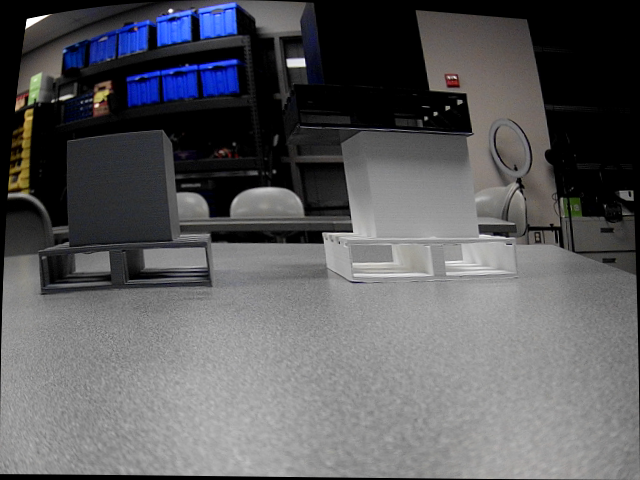black pallet: (270, 1, 476, 147)
grey pallet: (35, 129, 220, 299)
white pallet: (317, 130, 529, 287)
